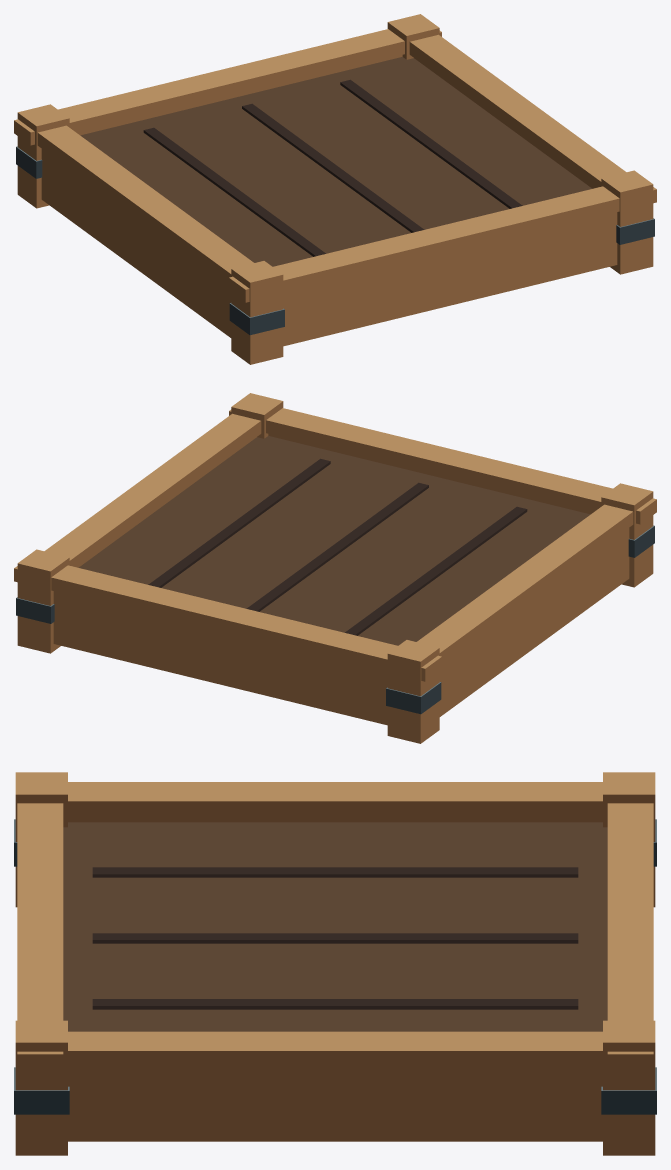
File: planter_box.fbx
3 views of the same model, one above another, from view 1: azimuth 30°, elevation 25°; view 2: azimuth 150°, elevation 25°; view 3: azimuth 270°, elevation 25° (orthographic). The views are drawn at different scales.
Parts seen in each view (by area): view 1: planter_box__Frame, planter_box__Soil; view 2: planter_box__Frame, planter_box__Soil; view 3: planter_box__Frame, planter_box__Soil.
Part boxes in pixels (box(x1,y1,x2,y2)): planter_box__Frame: box(14, 14, 656, 364); planter_box__Soil: box(80, 57, 592, 266); planter_box__Frame: box(14, 393, 656, 743); planter_box__Soil: box(78, 436, 590, 645); planter_box__Frame: box(14, 772, 656, 1155); planter_box__Soil: box(63, 822, 607, 1031).
Size of the model in its own units: 3.98 by 0.78 by 3.92.
Materials: 1 (1 with a texture image).
